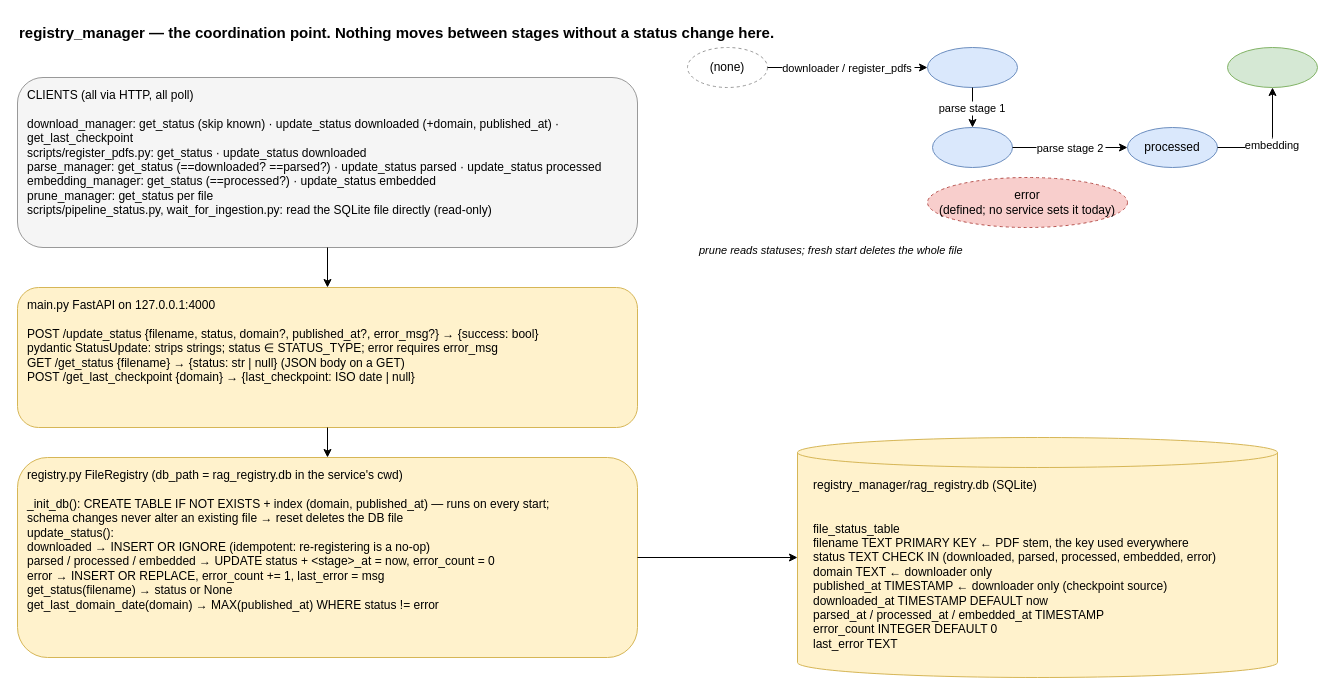
Some shapes in this 1335 by 695 pixel diagram are drawn without their labels. The shapes that lost their labels are listed below. From the top down, each one's centre as x and y in pixels, then its label:
At (x=972, y=67): "downloaded".
At (x=1272, y=67): "embedded".
At (x=972, y=147): "parsed".
